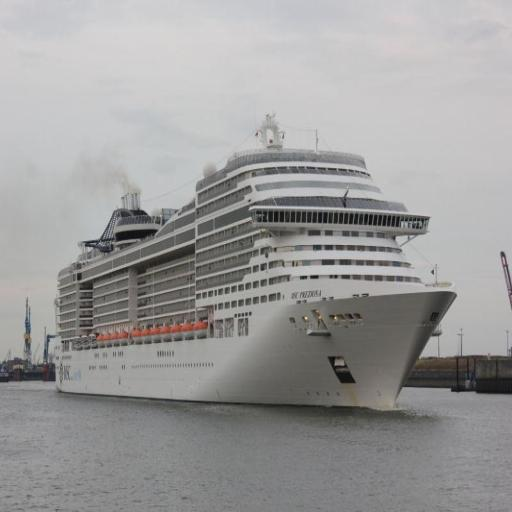cruises: (45, 126, 461, 422)
